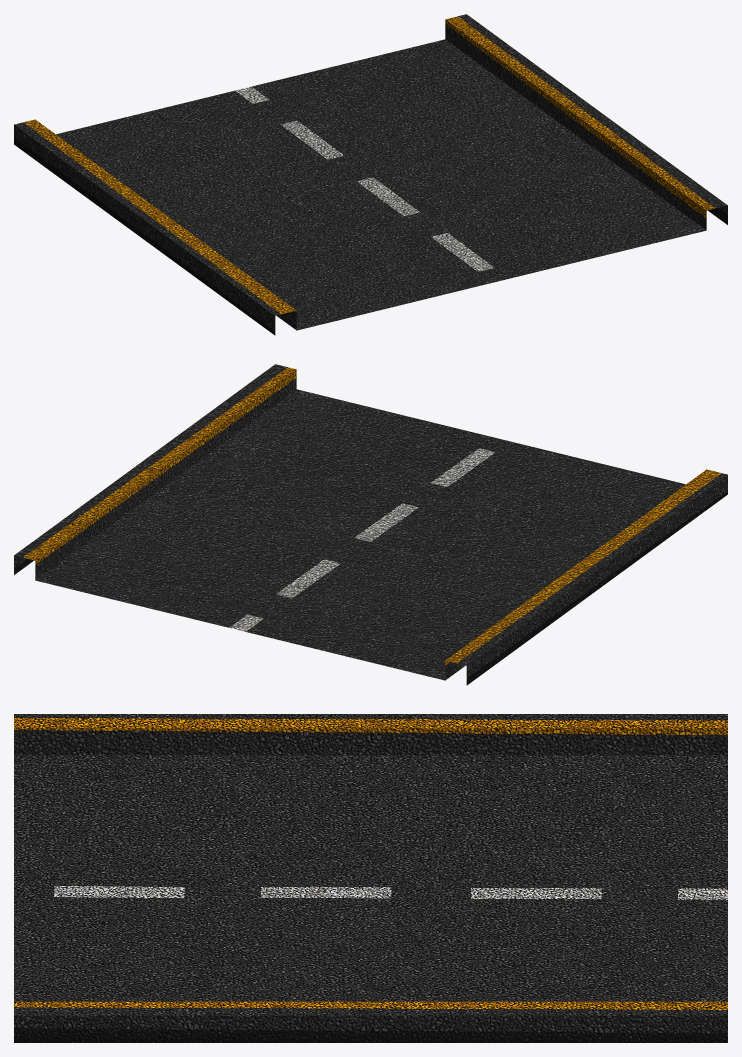
The model's file is RaceRoad.glb.
3 views of the same model, one above another, from view 1: azimuth 30°, elevation 25°; view 2: azimuth 150°, elevation 25°; view 3: azimuth 270°, elevation 25° (orthographic). The views are drawn at different scales.
Parts seen in each view (by area): view 1: Plane; view 2: Plane; view 3: Plane.
Part boxes in pixels (x1=…): Plane: x1=14, y1=14, x2=727, y2=335; Plane: x1=14, y1=364, x2=727, y2=685; Plane: x1=14, y1=714, x2=727, y2=1042.
Bounding box in the file's own units: 2 × 0.0842 × 2.
1 material, 1 textured.
